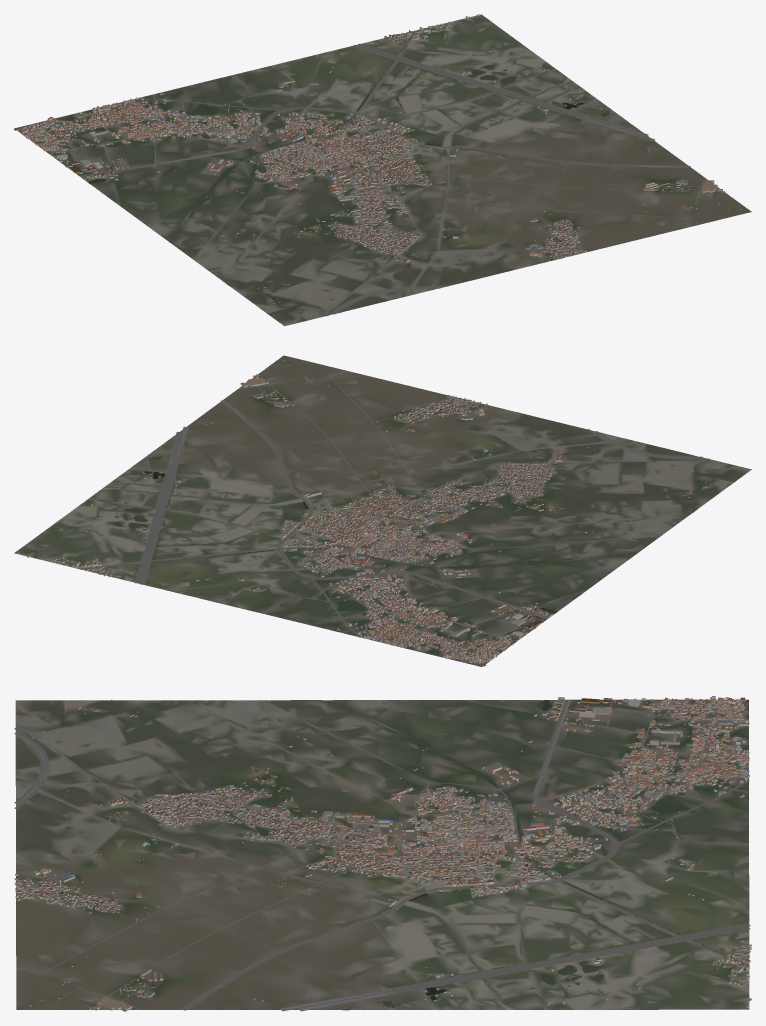
3 renders of one model, top to bottom at view 1: azimuth 30°, elevation 25°; view 2: azimuth 150°, elevation 25°; view 3: azimuth 270°, elevation 25°, orthographic. The views are drawn at different scales.
Parts seen in each view (by area): view 1: ground, buildings, roads, water; view 2: ground, buildings, roads, water; view 3: ground, buildings, roads, water.
Boxes of the visible parts, box(x1,y1,x2,y2) form: ground: box(14, 14, 751, 326); buildings: box(14, 14, 741, 307); roads: box(19, 18, 705, 316); water: box(88, 31, 610, 320); ground: box(14, 355, 751, 666); buildings: box(16, 360, 716, 666); roads: box(17, 372, 713, 665); water: box(84, 456, 730, 613); ground: box(15, 699, 749, 1010); buildings: box(14, 696, 751, 1011); roads: box(14, 699, 750, 1011); water: box(18, 700, 746, 1009).
Bounding box in the file's own units: 2830 × 24.53 × 2822.
